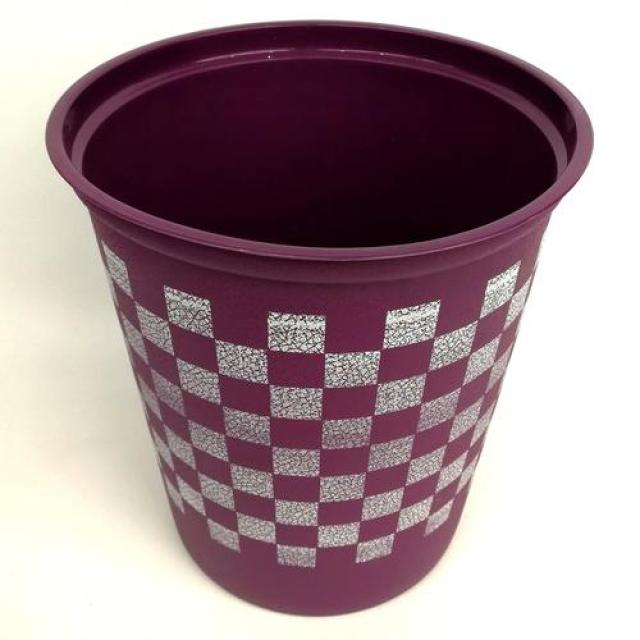dustbin: (42, 15, 600, 618)
